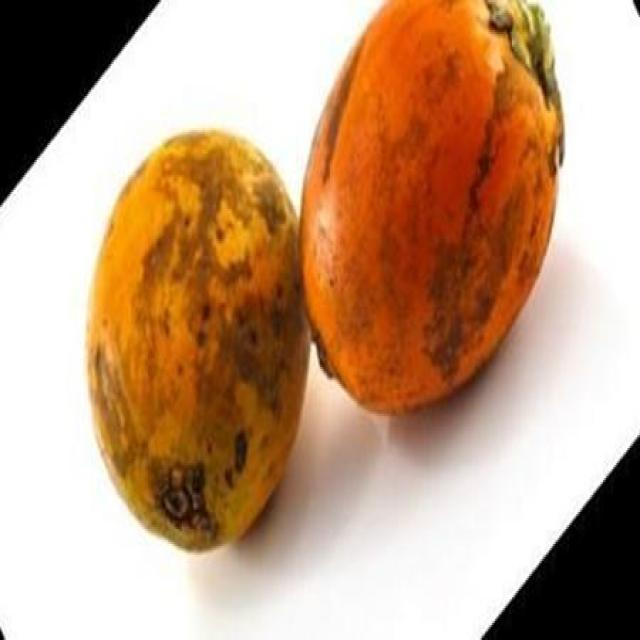good: (299, 0, 565, 418), (84, 130, 311, 555)
